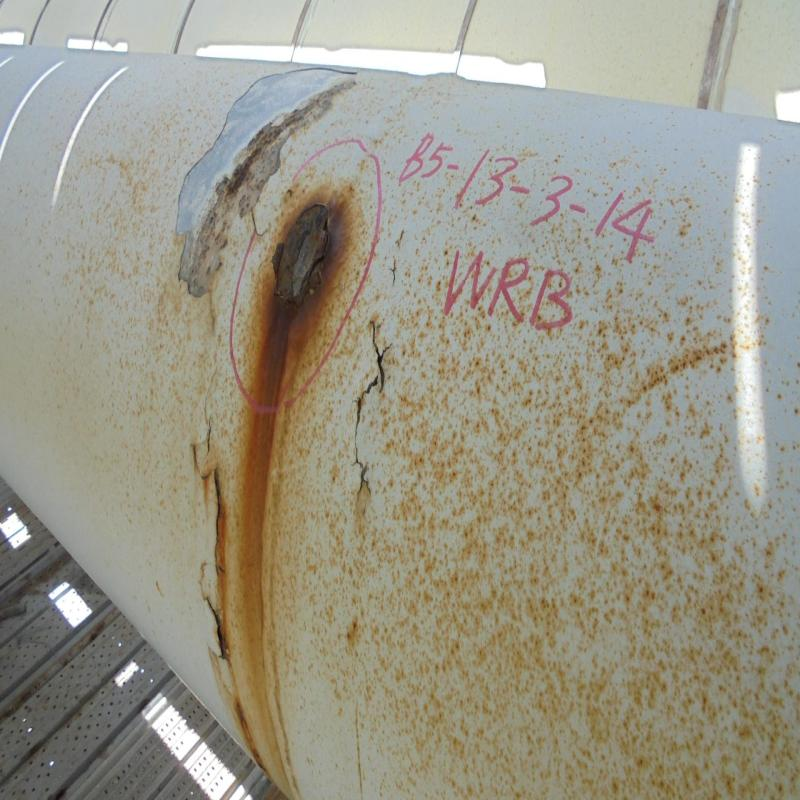Fracture: (346, 333, 397, 516)
corrosion: (185, 126, 356, 316)
